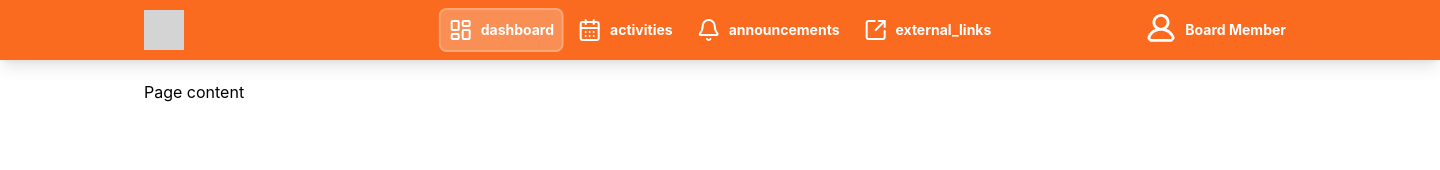
Test: NavBarLayout › does not show admin links in the profile dropdown for a regular member
Click the button with alt text "avatar".
click(1216, 30)  # box x1=1135 y1=8 x2=1296 y2=52
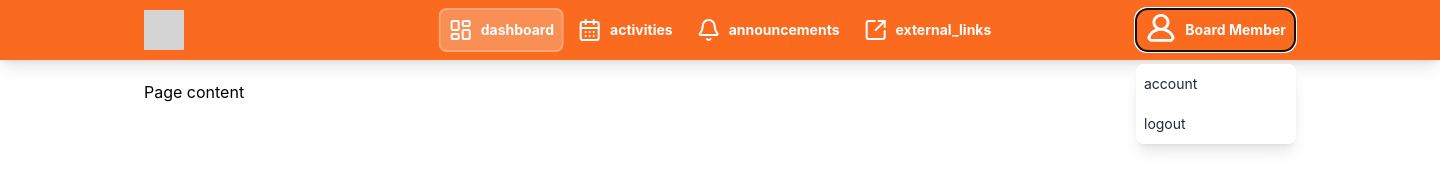
Expected: the link "account" is shown, x1=1144 y1=75 x2=1197 y2=92
